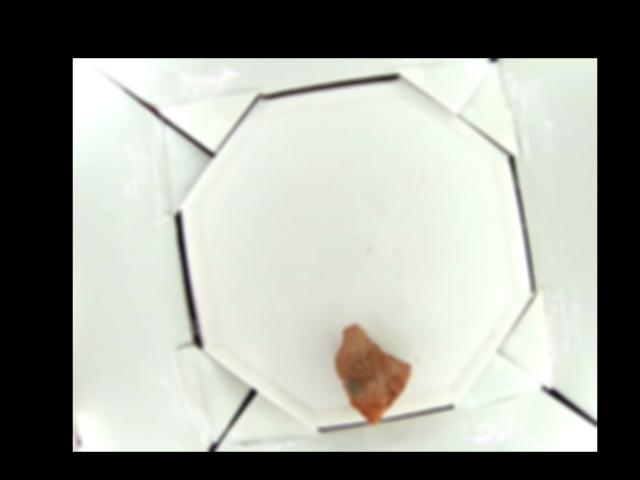Brisk: (334, 326, 412, 423)
